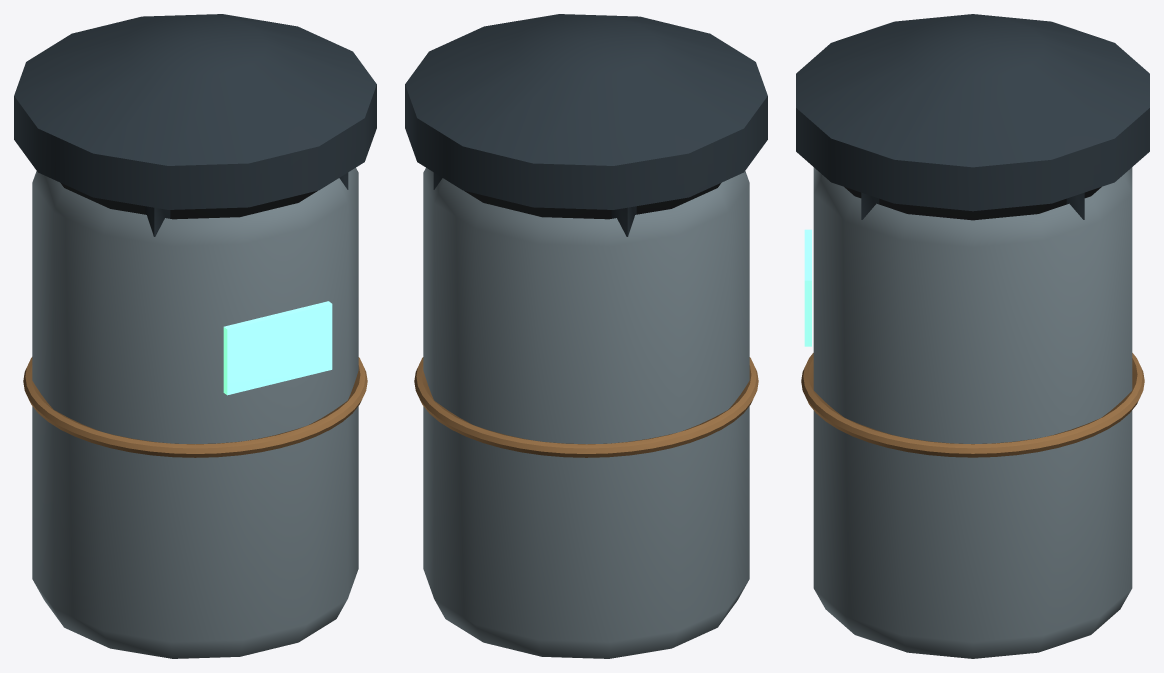
Rendered from litter-bin.lod0.glb.
3 renders of one model, left to right at view 1: azimuth 30°, elevation 25°; view 2: azimuth 150°, elevation 25°; view 3: azimuth 270°, elevation 25°, orthographic.
Visible parts, largest first — view 1: structure; view 2: structure; view 3: structure.
Part boxes in pixels (bbox=[...]): structure: bbox=[14, 14, 376, 658]; structure: bbox=[405, 14, 767, 658]; structure: bbox=[796, 14, 1149, 658].
Size of the model in its own units: 0.6 by 1.01 by 0.5849.
